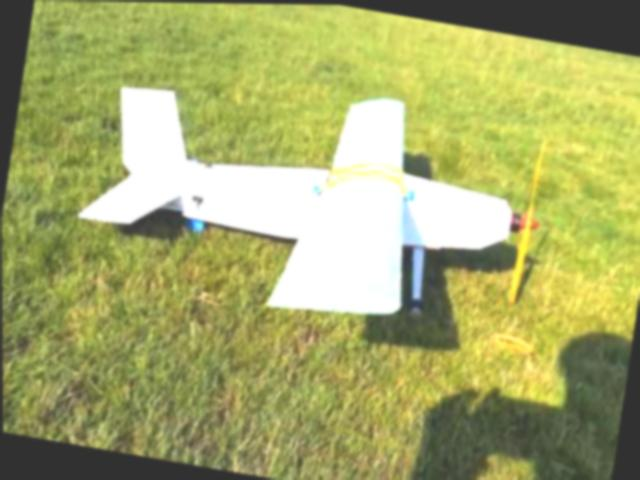uav: (65, 42, 558, 353)
